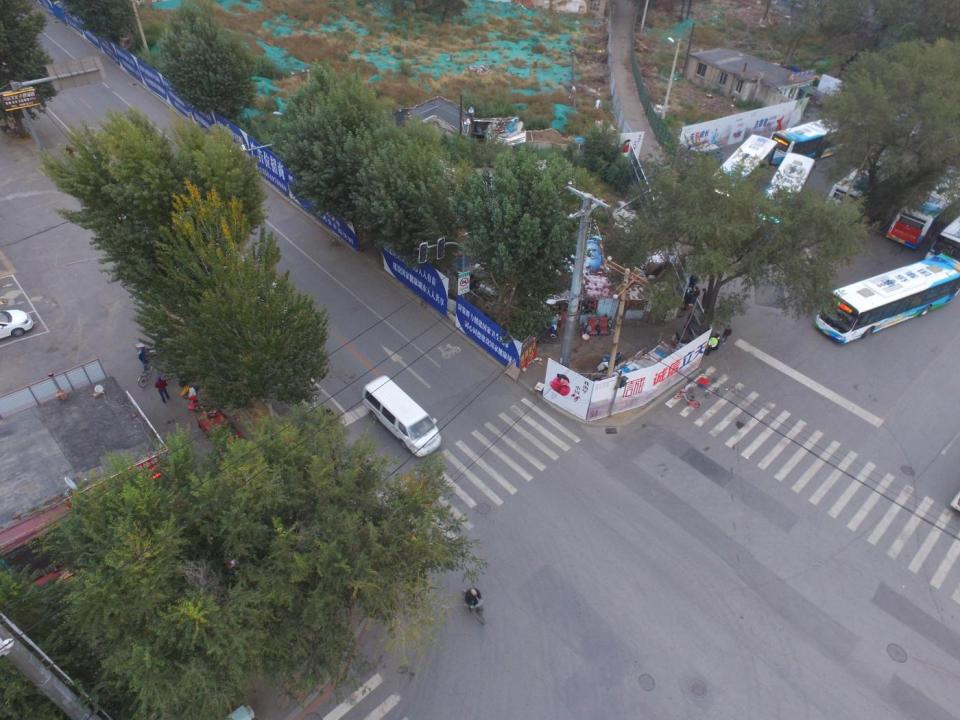bus: (811, 256, 960, 343), (828, 144, 921, 216), (886, 163, 960, 249), (750, 152, 815, 240), (769, 117, 869, 167), (709, 133, 779, 203)
car: (0, 307, 34, 341)
van: (362, 375, 442, 458), (687, 144, 726, 167)
